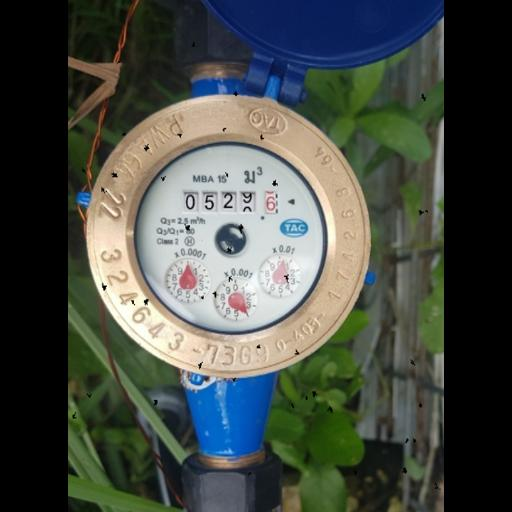0: (184, 192, 199, 212)
2: (223, 192, 236, 213)
5: (203, 192, 217, 213)
6: (265, 191, 278, 214)
9: (242, 192, 256, 213)
border_water_meter_number: (181, 189, 279, 215)
